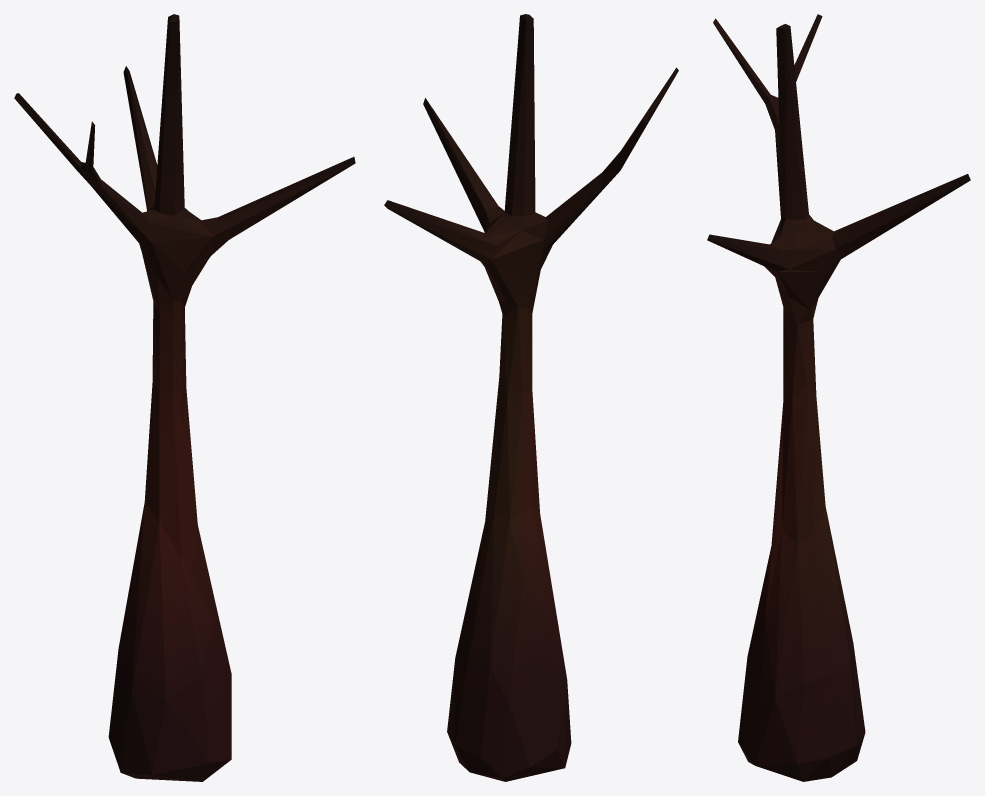
File: House_Small_Tree_01_01.fbx
3 renders of one model, left to right at view 1: azimuth 30°, elevation 25°; view 2: azimuth 150°, elevation 25°; view 3: azimuth 270°, elevation 25°, orthographic. The views are drawn at different scales.
Parts seen in each view (by area): view 1: House_Small_Tree_01_01; view 2: House_Small_Tree_01_01; view 3: House_Small_Tree_01_01.
Boxes of the visible parts, <box> form: House_Small_Tree_01_01: <box>14,14,355,781</box>; House_Small_Tree_01_01: <box>384,14,678,781</box>; House_Small_Tree_01_01: <box>707,14,970,781</box>.
Size of the model in its own units: 1.53 by 3.92 by 1.27.
